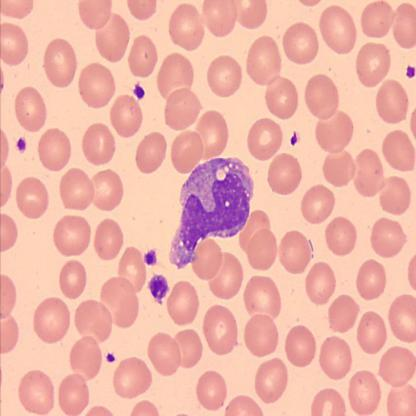Monocyte: (167, 154, 255, 270)
